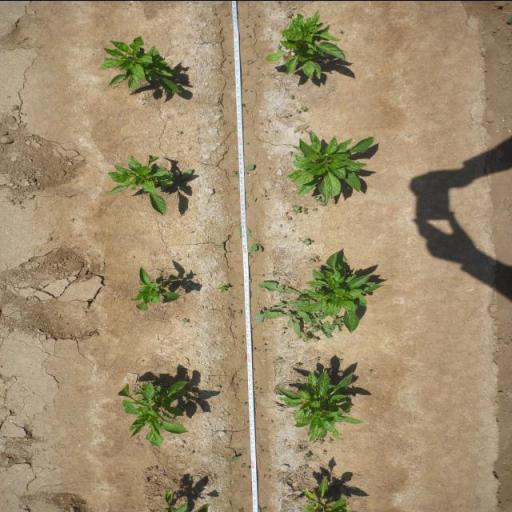plant: (273, 372, 363, 437), (116, 374, 191, 448), (287, 134, 376, 196), (96, 35, 184, 97), (265, 14, 346, 80), (102, 153, 172, 218), (306, 264, 385, 310), (128, 265, 184, 311), (301, 476, 351, 512), (159, 485, 216, 512)
weed: (255, 276, 309, 336), (240, 225, 265, 254), (169, 167, 195, 194), (232, 163, 255, 177), (292, 124, 312, 134), (297, 332, 313, 342), (312, 194, 326, 205), (302, 236, 314, 246), (291, 204, 301, 213), (304, 323, 315, 331), (218, 284, 228, 292), (284, 210, 292, 220), (302, 452, 312, 460), (296, 446, 308, 452), (217, 241, 225, 249), (230, 455, 239, 462), (282, 112, 292, 118), (284, 11, 292, 18), (311, 326, 320, 332), (258, 444, 264, 453), (303, 206, 309, 214), (315, 254, 321, 262), (313, 336, 320, 342), (318, 438, 325, 444), (327, 437, 334, 443), (294, 362, 302, 367), (240, 462, 246, 468), (182, 317, 188, 323), (237, 308, 243, 314), (338, 28, 344, 34), (316, 356, 322, 362), (237, 507, 244, 512), (176, 129, 182, 134), (296, 108, 301, 114), (322, 449, 328, 454), (303, 464, 308, 470), (266, 468, 272, 473), (301, 106, 308, 110), (311, 207, 318, 211), (251, 197, 258, 201), (244, 22, 250, 26), (276, 356, 282, 360), (246, 33, 251, 37), (298, 236, 302, 241), (310, 258, 315, 262), (302, 472, 306, 477), (262, 506, 266, 511), (266, 118, 272, 121), (246, 466, 252, 469), (290, 94, 294, 98), (228, 310, 235, 312), (241, 103, 245, 106), (261, 194, 267, 196), (278, 224, 284, 226), (264, 348, 267, 352), (262, 474, 265, 478), (282, 326, 287, 328), (226, 414, 230, 416), (256, 66, 260, 68), (264, 130, 268, 132), (252, 348, 256, 350), (282, 331, 284, 334), (263, 343, 266, 345), (244, 88, 246, 90), (268, 476, 270, 478)
